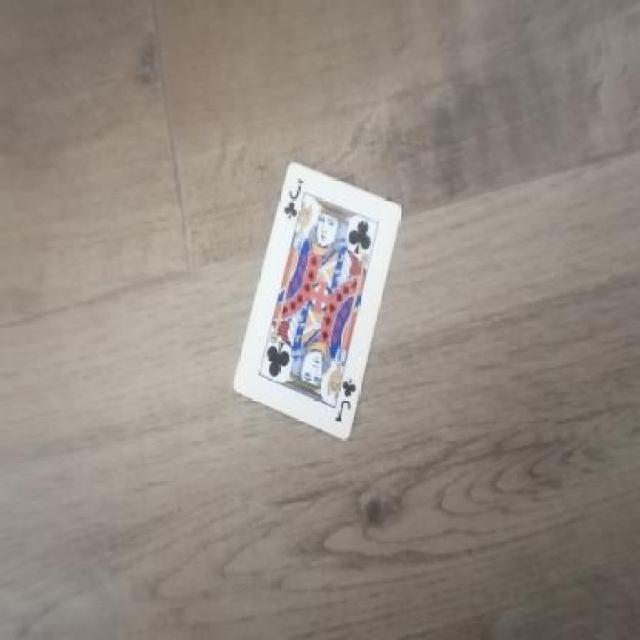JC: (334, 366, 366, 428), (279, 170, 315, 224)
